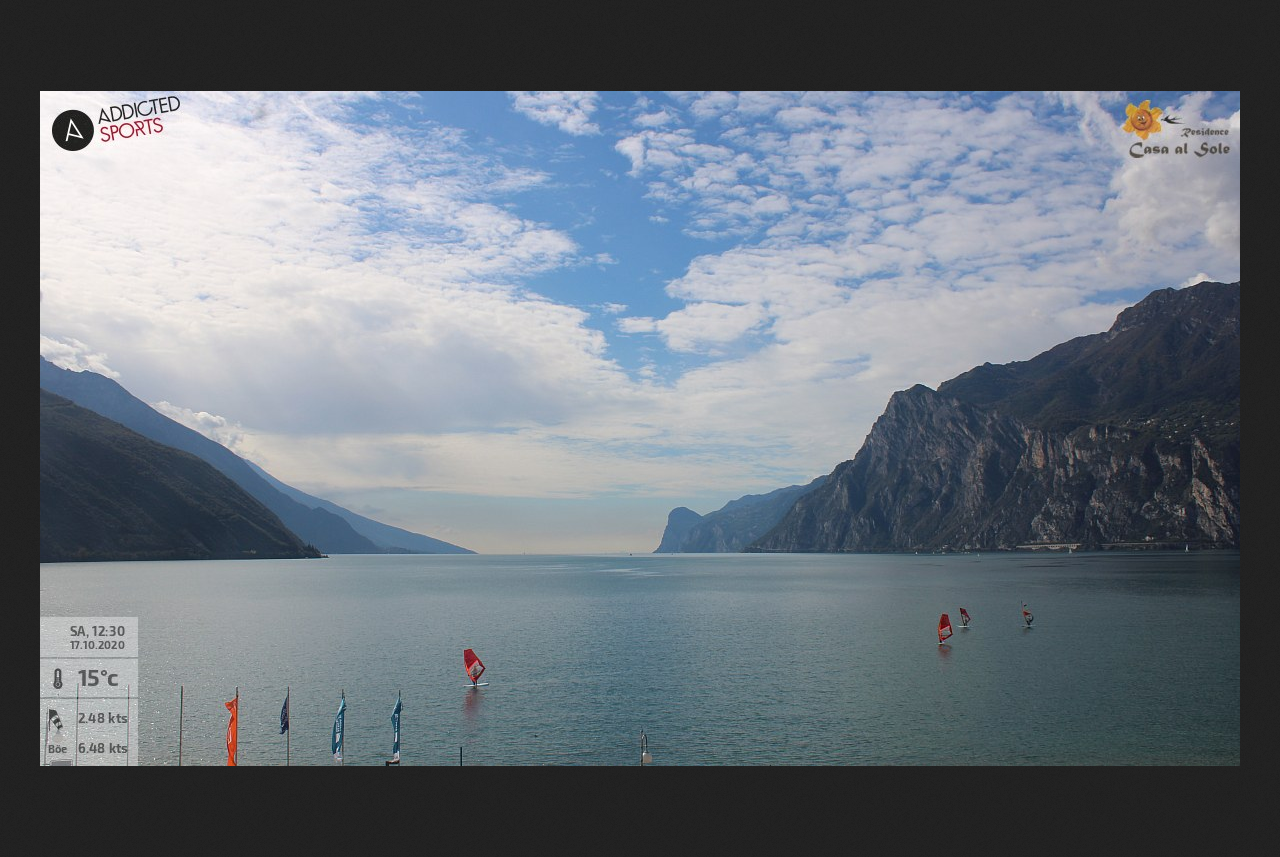no: (278, 697, 291, 733)
